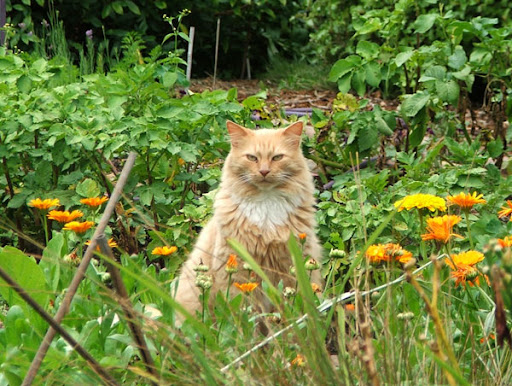cat: (169, 118, 326, 338)
